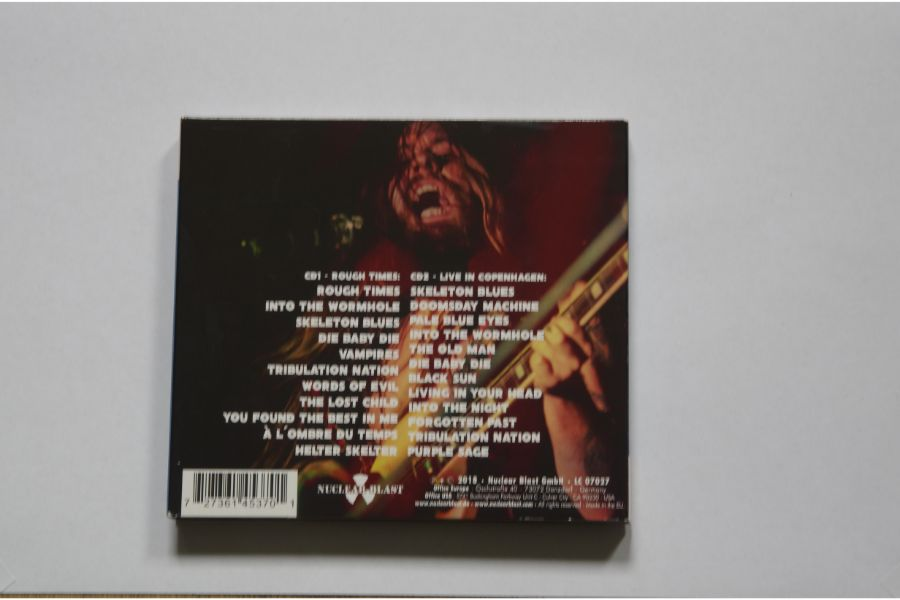album: (166, 116, 631, 527)
